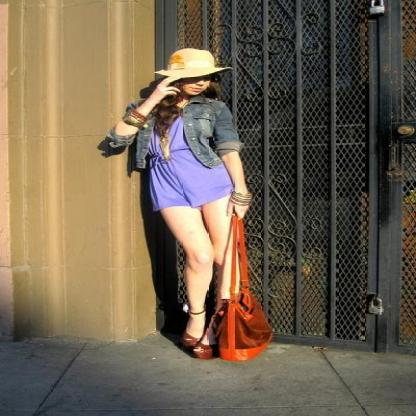bag: (187, 208, 273, 361)
dress: (138, 125, 233, 224)
hat: (162, 49, 230, 81)
jacket: (98, 96, 244, 174)
shoe: (168, 325, 223, 359)
